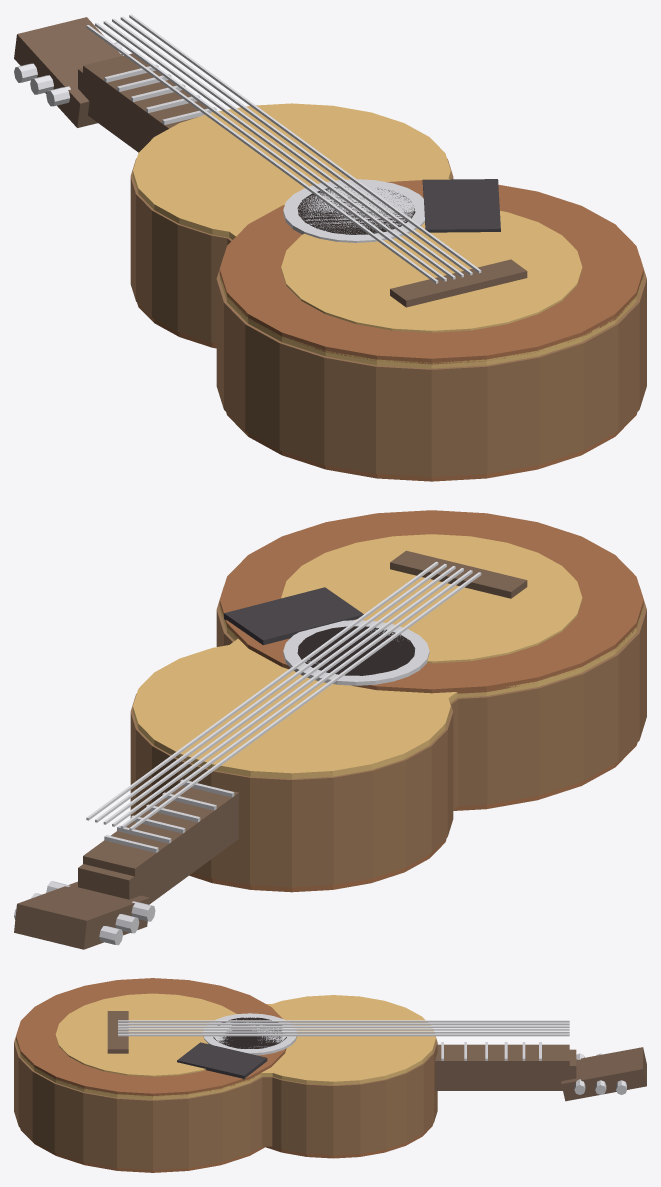
Rendered from guitarra.glb.
3 views of the same model, one above another, from view 1: azimuth 30°, elevation 25°; view 2: azimuth 150°, elevation 25°; view 3: azimuth 270°, elevation 25° (orthographic). The views are drawn at different scales.
Visible parts, largest first — view 1: Body; view 2: Body; view 3: Body.
Part boxes in pixels (bbox=[...]): Body: bbox=[14, 14, 646, 481]; Body: bbox=[14, 510, 646, 949]; Body: bbox=[14, 978, 646, 1172].
Size of the model in its own units: 0.4 by 0.1392 by 0.9116.
